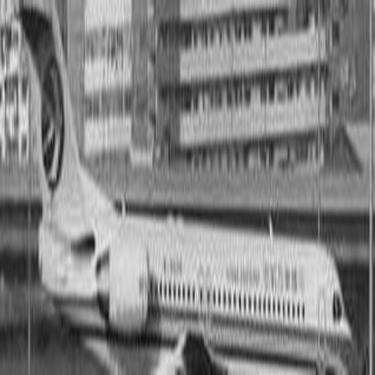airplane: (1, 8, 371, 371)
